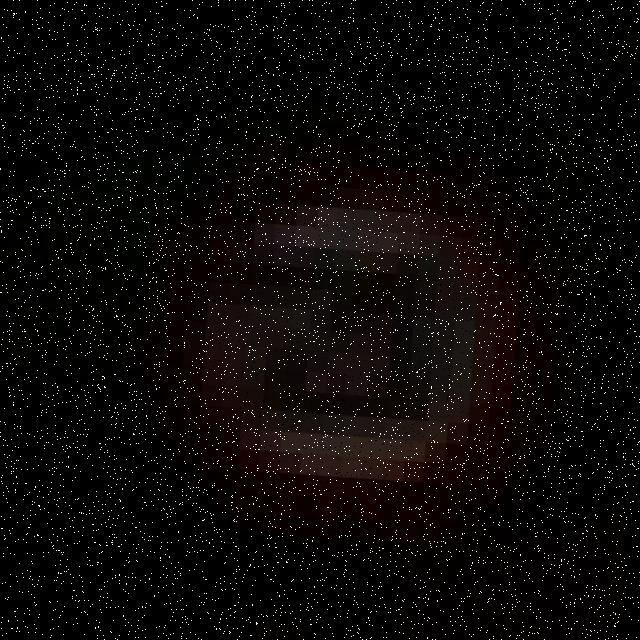Ograniczenie predkosci do 120: (138, 147, 562, 552)
